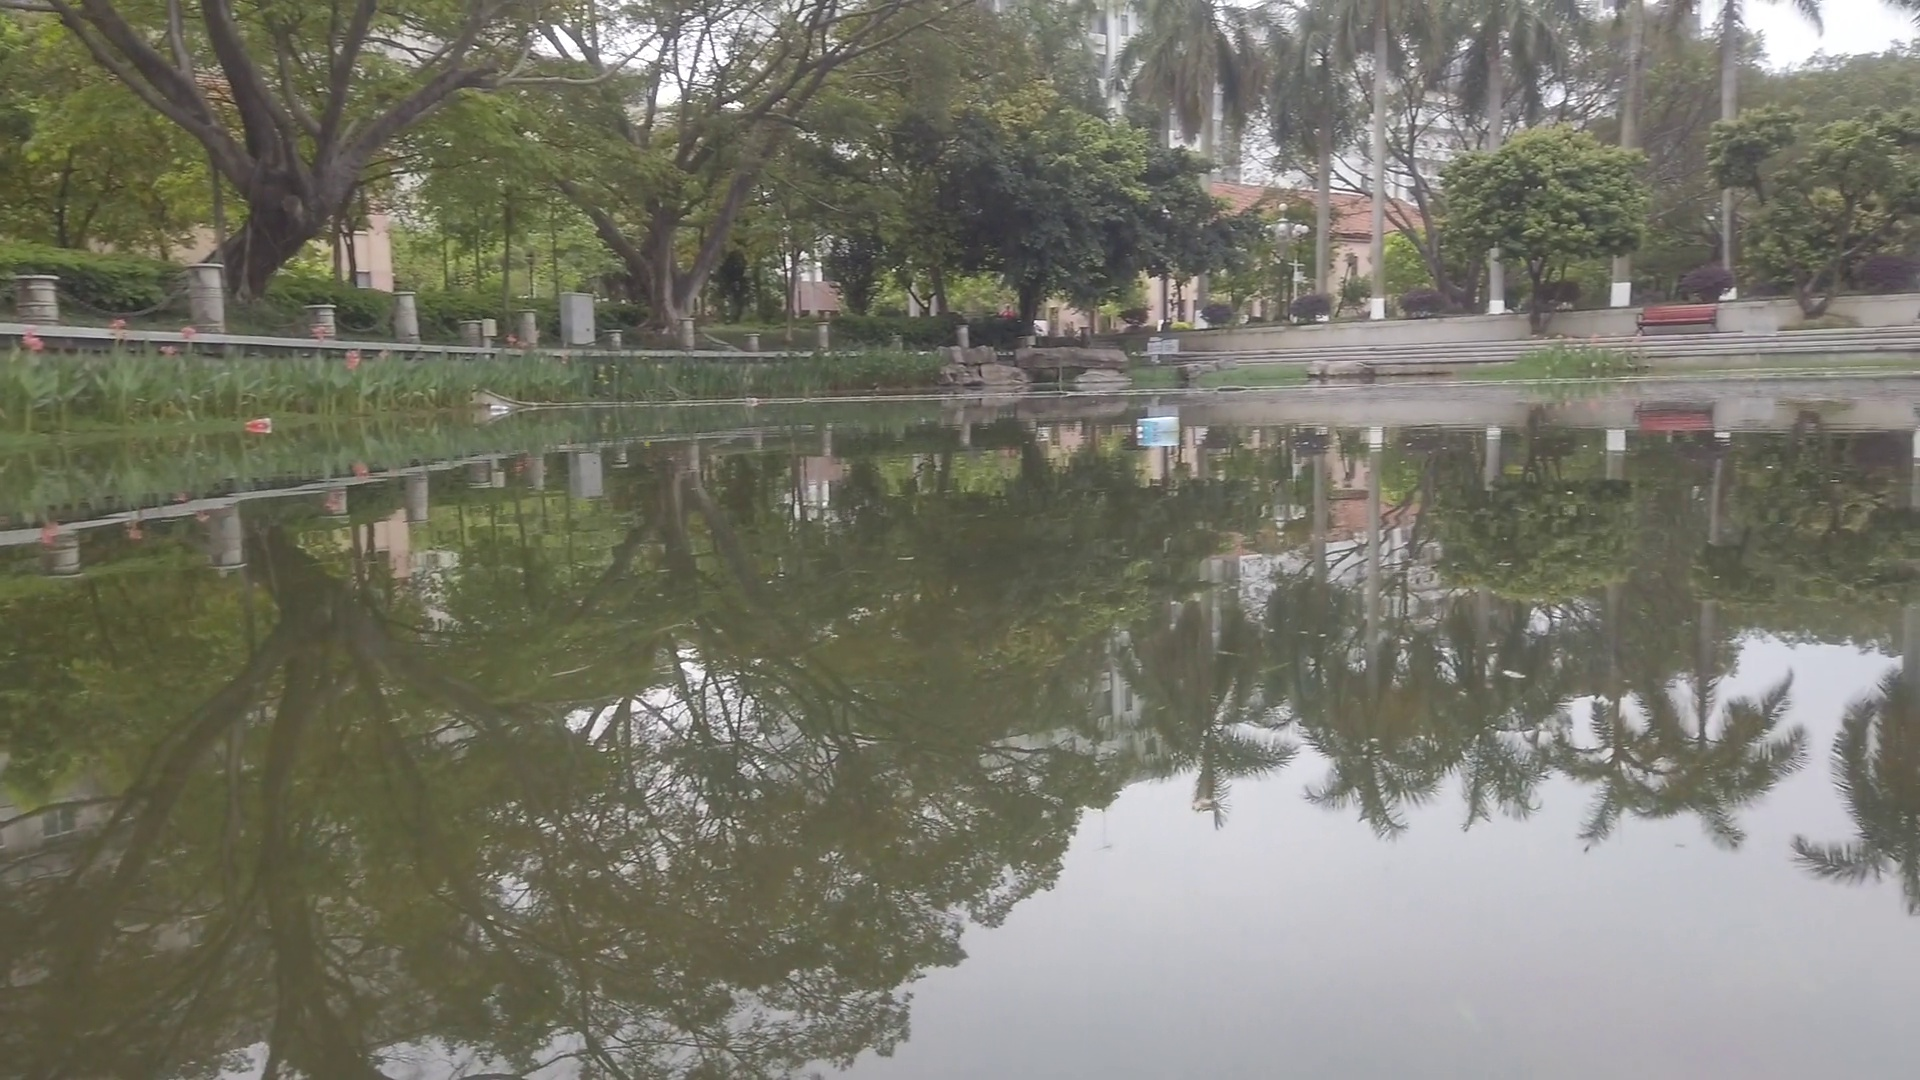bottle: (243, 417, 273, 431), (491, 404, 513, 414), (745, 397, 762, 406)
carton: (1135, 415, 1179, 434)
